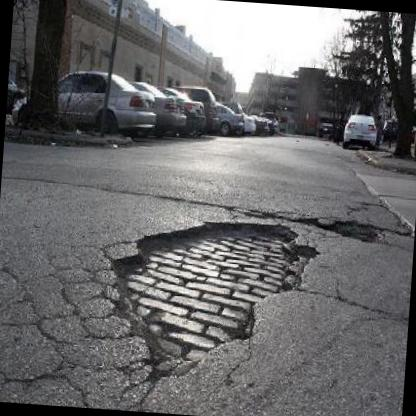pothole: (95, 208, 318, 393), (321, 216, 386, 245)
